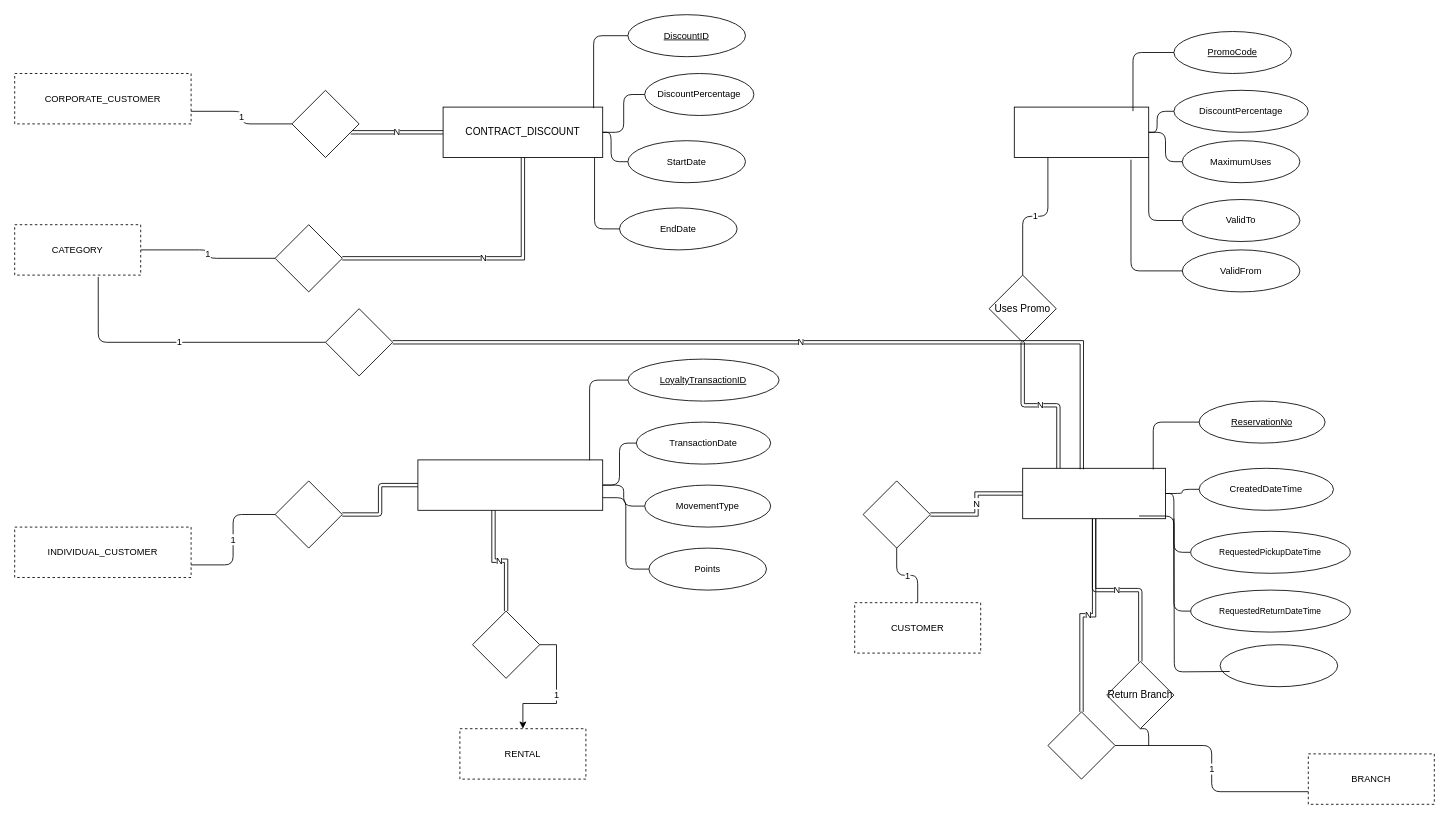
This 1449x819 diagram has some shape labels left out. Here are the shapes that lost their labels. From the top down, the centre of each, then its label:
point (325, 123): Has Discount
point (1081, 132): PROMOTION
point (308, 258): Applies to
point (359, 342): Requested
point (510, 484): LOYALTY_TRANSACTION
point (1094, 493): RESERVATION
point (308, 514): Has Transaction
point (896, 514): Makes
point (506, 644): Releted To
point (1278, 665): Status
point (1081, 745): Pickup Branch
